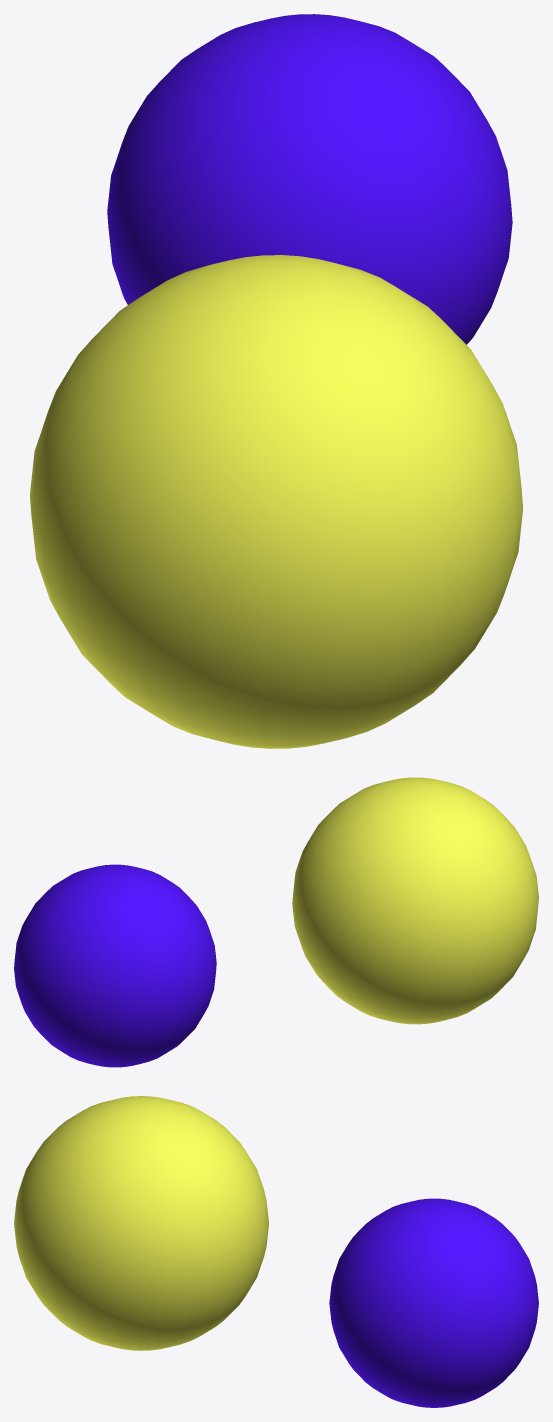
File: planets.glb
3 views of the same model, one above another, from view 1: azimuth 30°, elevation 25°; view 2: azimuth 150°, elevation 25°; view 3: azimuth 270°, elevation 25° (orthographic). The views are drawn at different scales.
Parts seen in each view (by area): view 1: Sphere001, Sphere002; view 2: Sphere001, Sphere002; view 3: Sphere001, Sphere002.
Part boxes in pixels (<box>): Sphere001: <box>30,255,523,748</box>; Sphere002: <box>107,14,512,344</box>; Sphere001: <box>292,777,538,1024</box>; Sphere002: <box>14,864,216,1067</box>; Sphere001: <box>14,1096,268,1350</box>; Sphere002: <box>329,1198,538,1407</box>.
Bounding box in the file's own units: 4.01 × 2.43 × 5.
